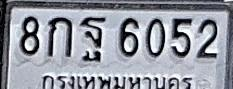0: (145, 18, 165, 57)
2: (196, 18, 217, 58)
5: (171, 18, 192, 57)
6: (119, 17, 138, 56)
8: (19, 15, 39, 55)
A01: (47, 16, 72, 57)
A16: (80, 16, 106, 56)
BKK: (38, 71, 195, 89)
